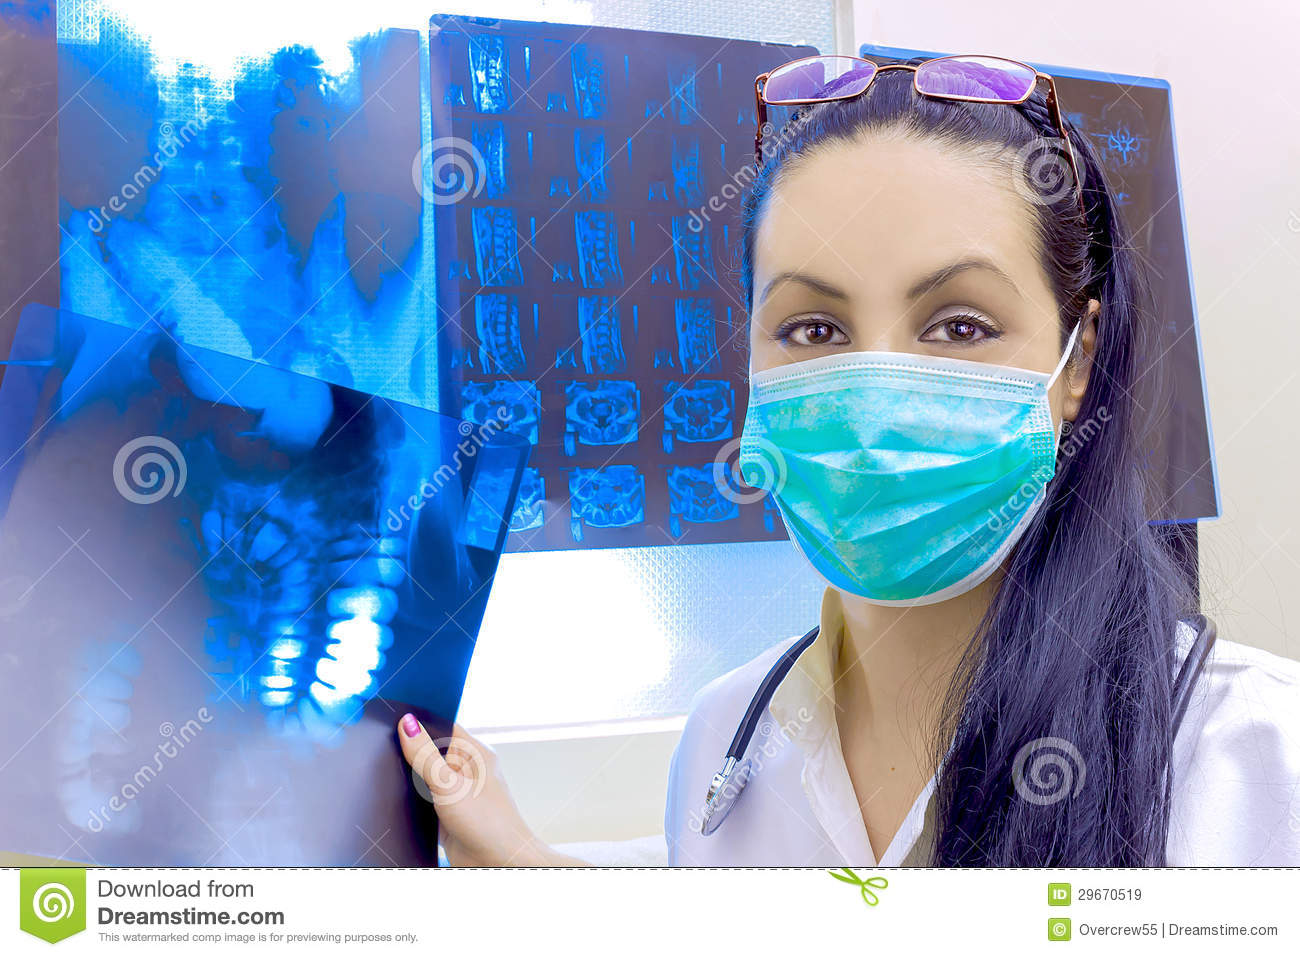mask: (740, 353, 1059, 608)
